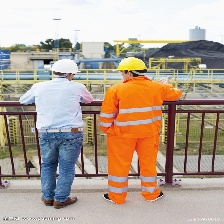helmet: (41, 58, 93, 79), (110, 57, 155, 76)
no-vest: (19, 83, 98, 138)
person: (93, 54, 196, 214), (19, 56, 99, 213)
vest: (101, 82, 186, 155)
